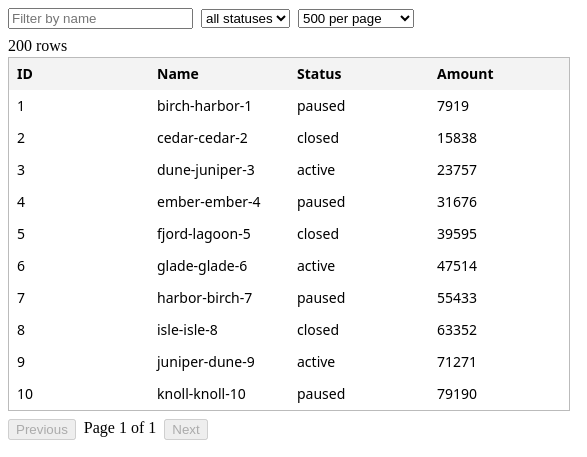
it: editing against the mock server › a saved edit stays and reaches the server
The image size is (587, 457).
Expected: the text "200 rows" is shown, [8,37,67,54]
Click the cell "birch-harbor-1" at (205, 106), box [157,96,252,115]
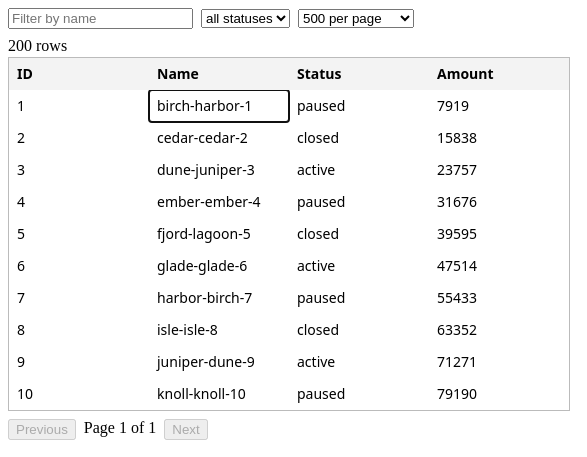
Press Enter
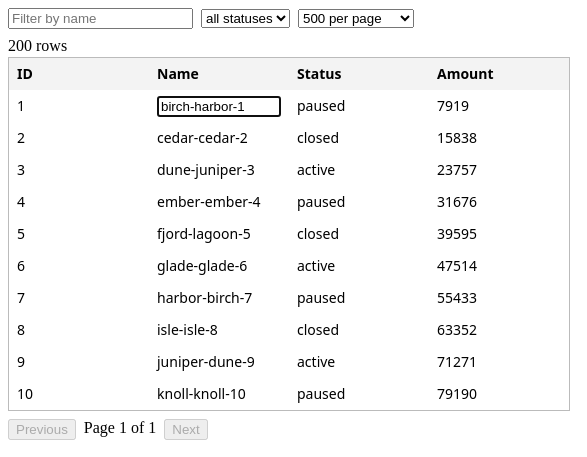
Replace the text in the field named "Name for row 1" with "kept" at (219, 106), box [157,96,281,117]
Then press Enter
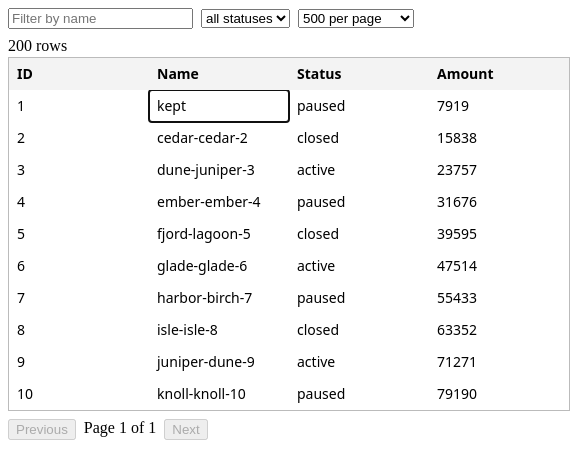
Expected: the cell "kept" is shown, [157,96,186,115]
